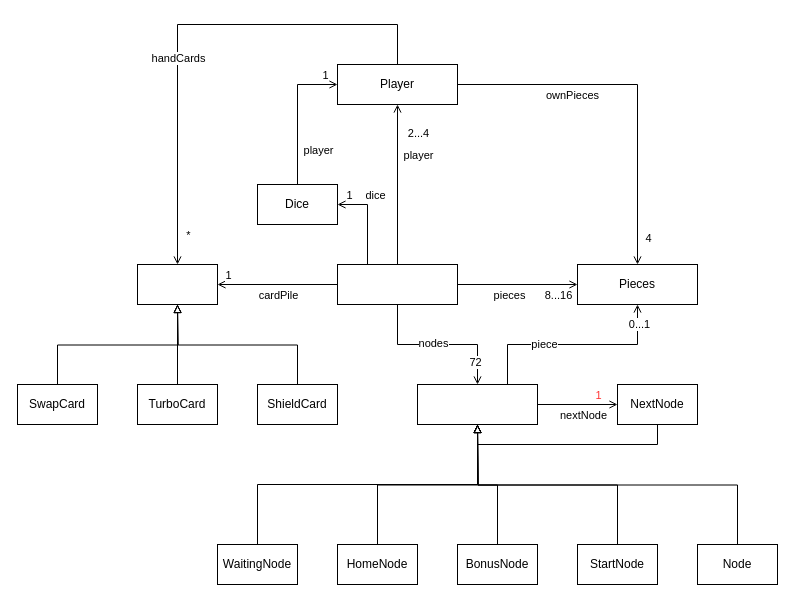
Image size: 795x602. Some labels were removed from this diagram. Here are the shapes that lost their labels. From the top down, the centre of each, then its label:
At pixel 177 284: "<<abstract>> Card".
At pixel 397 284: "Board".
At pixel 477 404: "<<abstract>> Nodes".
